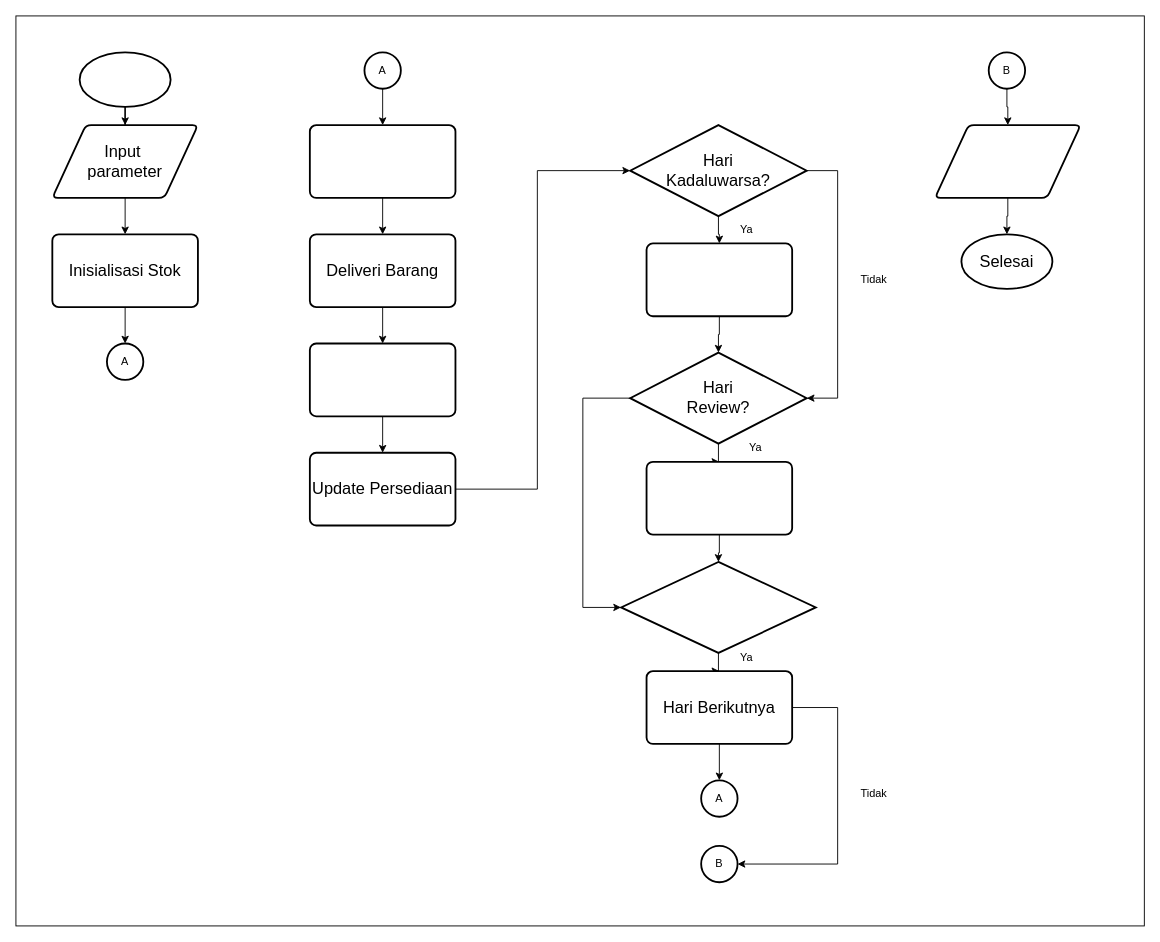
This 1160x942 diagram has some shape labels left out. Each missing label, with the centre of its shape:
"Hitung Order" goes at pixel 719 497.
"Hitung Waste" goes at pixel 719 279.
"Masih Ada Hari Simulasi?" goes at pixel 718 607.
"Mulai" goes at pixel 124 79.
"Output Simulasi" goes at pixel 1007 161.
"Permintaan Aktual" goes at pixel 382 379.
"Simulasi Harian" goes at pixel 382 161.
